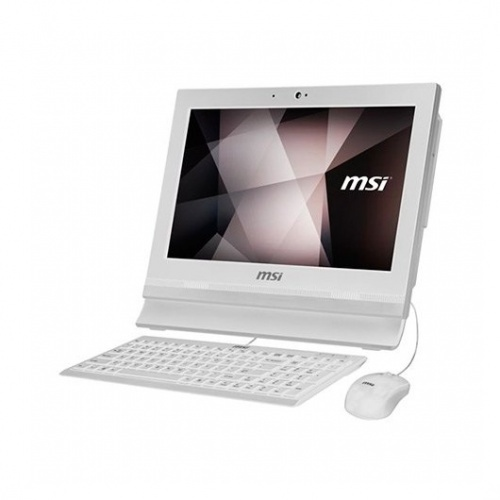Teclado: (55, 334, 366, 409)
